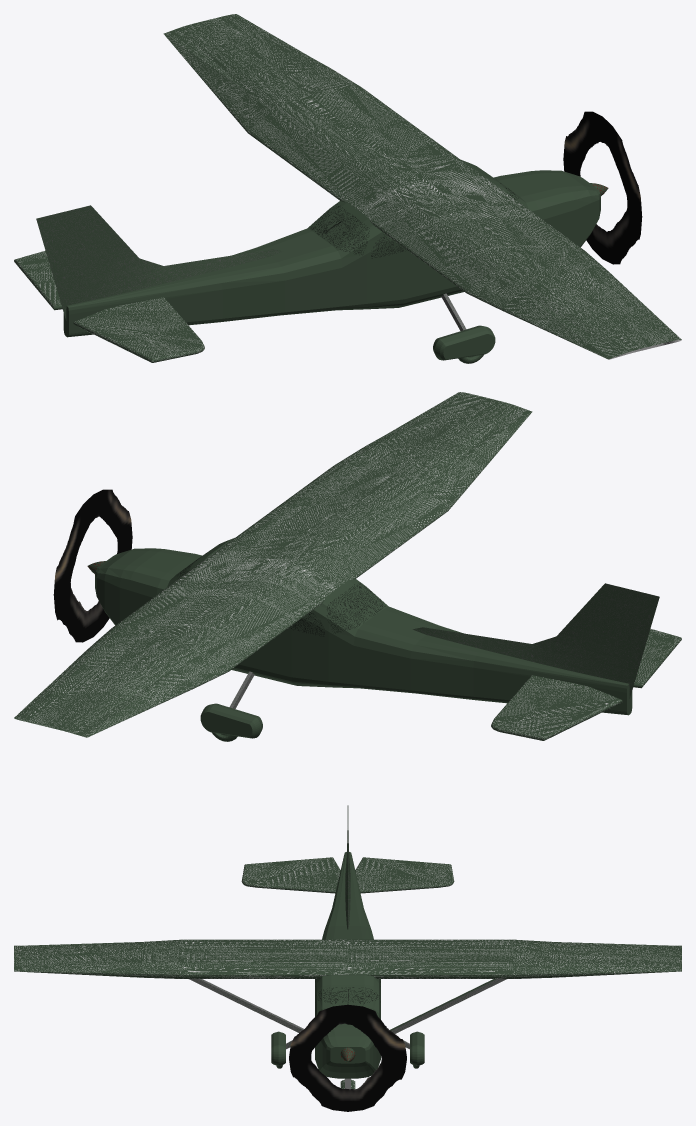
3 views of the same model, one above another, from view 1: azimuth 30°, elevation 25°; view 2: azimuth 150°, elevation 25°; view 3: azimuth 270°, elevation 25° (orthographic). The views are drawn at different scales.
Visible parts, largest first — view 1: mesh4_mesh4-geometry, mesh12_mesh12-geometry, mesh1_mesh1-geometry, mesh11_mesh11-geometry, mesh6_mesh6-geometry; view 2: mesh4_mesh4-geometry, mesh6_mesh6-geometry, mesh1_mesh1-geometry, mesh7_mesh7-geometry, mesh12_mesh12-geometry; view 3: mesh4_mesh4-geometry, mesh1_mesh1-geometry, mesh12_mesh12-geometry, mesh6_mesh6-geometry, mesh15_mesh15-geometry, mesh13_mesh13-geometry.
Boxes of the visible parts, bbox=[...] form: mesh4_mesh4-geometry: bbox=[36, 14, 681, 359]; mesh12_mesh12-geometry: bbox=[73, 297, 204, 362]; mesh1_mesh1-geometry: bbox=[563, 111, 642, 264]; mesh11_mesh11-geometry: bbox=[433, 325, 495, 360]; mesh6_mesh6-geometry: bbox=[14, 250, 62, 310]; mesh4_mesh4-geometry: bbox=[14, 392, 659, 737]; mesh6_mesh6-geometry: bbox=[491, 675, 622, 740]; mesh1_mesh1-geometry: bbox=[53, 489, 132, 642]; mesh7_mesh7-geometry: bbox=[200, 703, 262, 738]; mesh12_mesh12-geometry: bbox=[633, 628, 681, 688]; mesh4_mesh4-geometry: bbox=[14, 805, 681, 1078]; mesh1_mesh1-geometry: bbox=[289, 1004, 406, 1111]; mesh12_mesh12-geometry: bbox=[241, 857, 340, 893]; mesh6_mesh6-geometry: bbox=[355, 857, 454, 893]; mesh15_mesh15-geometry: bbox=[390, 979, 506, 1033]; mesh13_mesh13-geometry: bbox=[189, 979, 303, 1032].
Bounding box in the file's own units: 0.5841 × 0.2011 × 0.7864.
